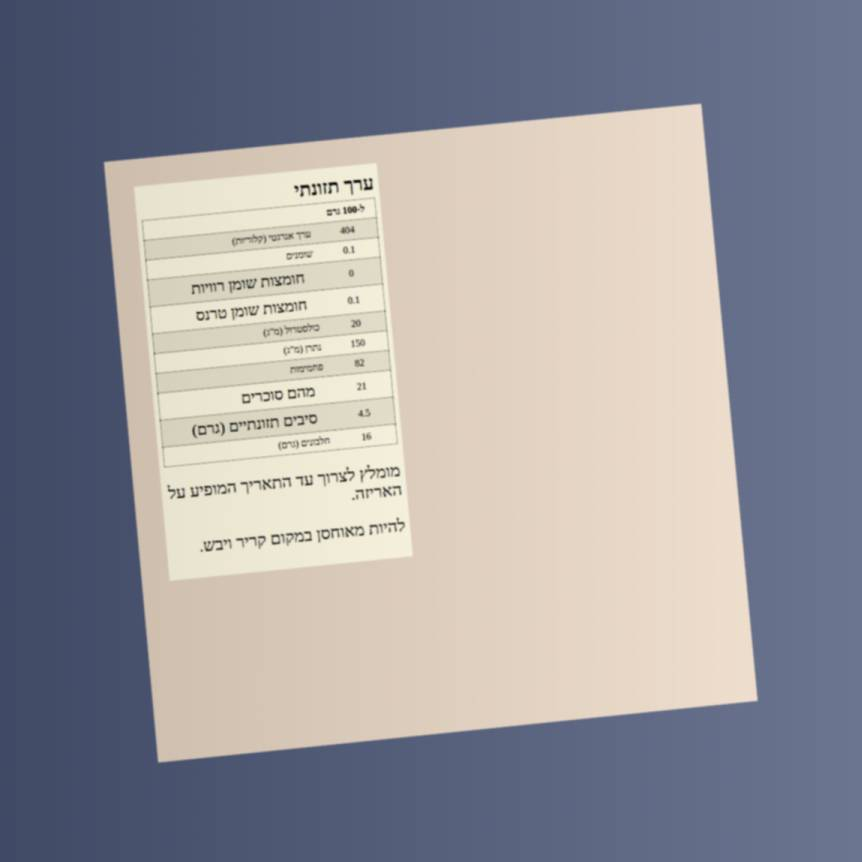carbs: (353, 356, 366, 370)
energy: (338, 223, 356, 237)
fat: (341, 243, 357, 257)
protein: (360, 430, 373, 443)
